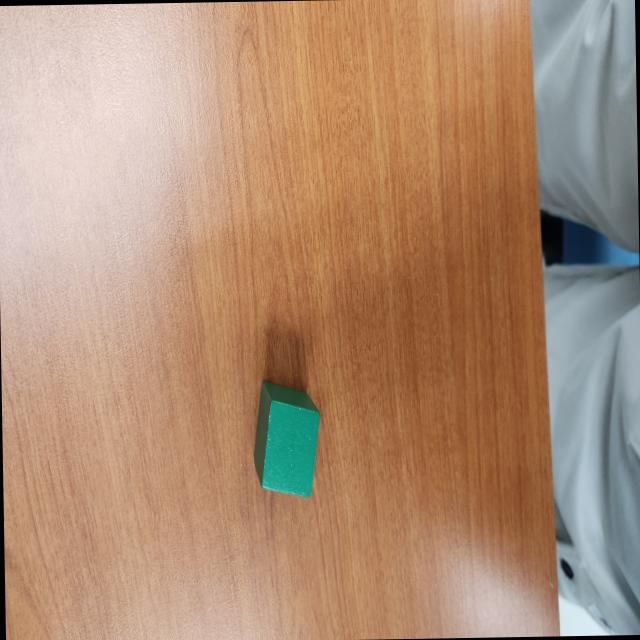green: (252, 378, 322, 498)
